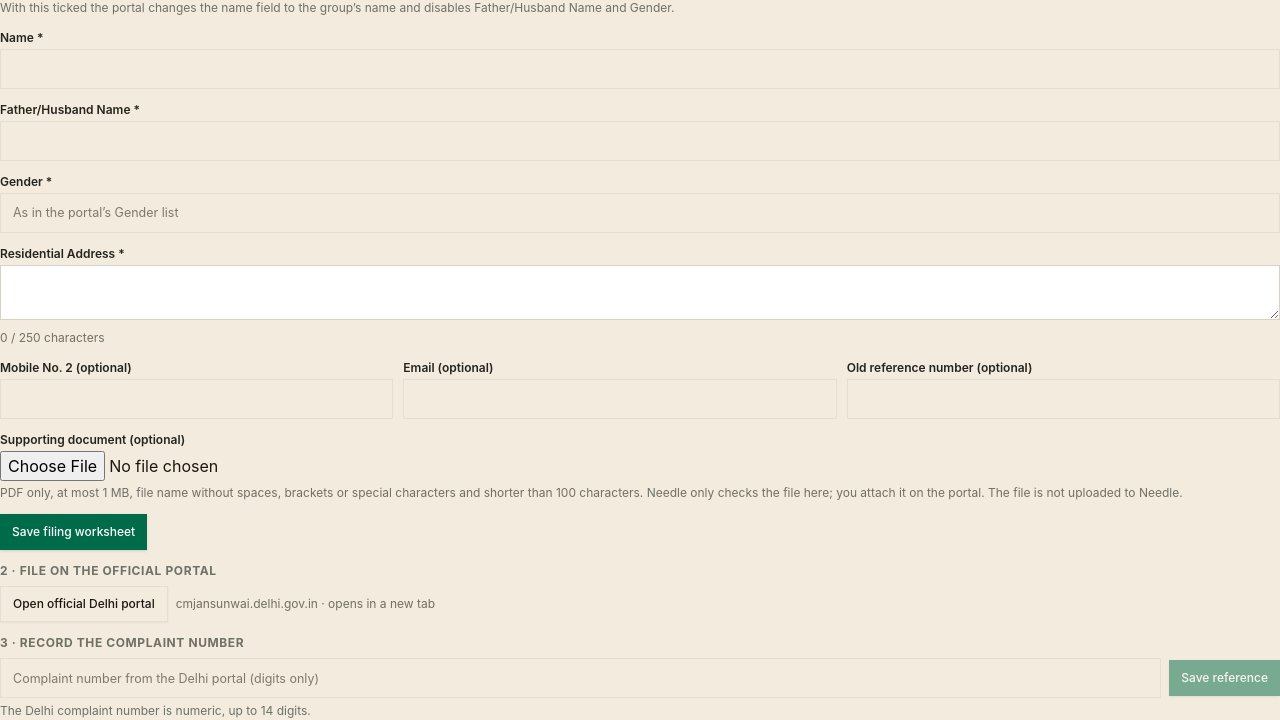
DelhiManualReferencePanel › shows a clear error for HTTP 403 without claiming success
This screenshot has width=1280, height=720.
(page scrolled)
Type "20260000011" into the field named "Delhi portal reference number". click: (581, 678)
box: [0, 658, 1161, 698]
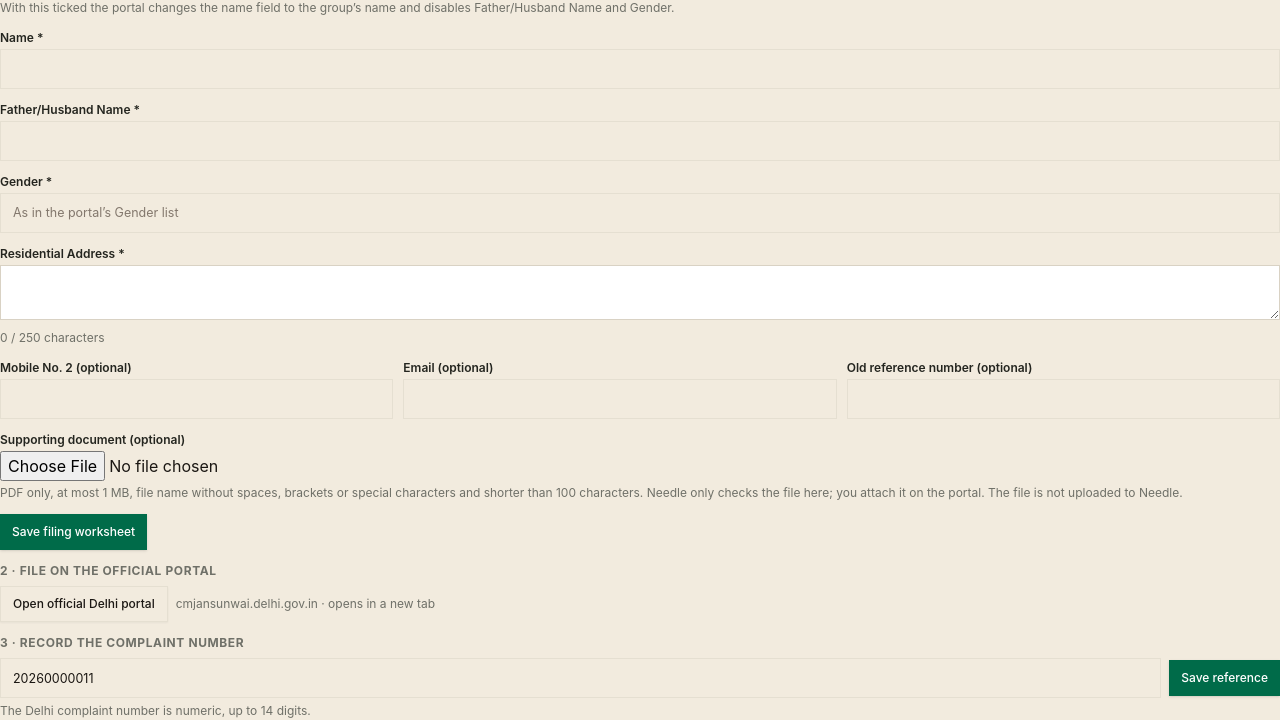
Click the button "Save reference". click: (1225, 678)
box: [1169, 660, 1279, 696]
(page scrolled)
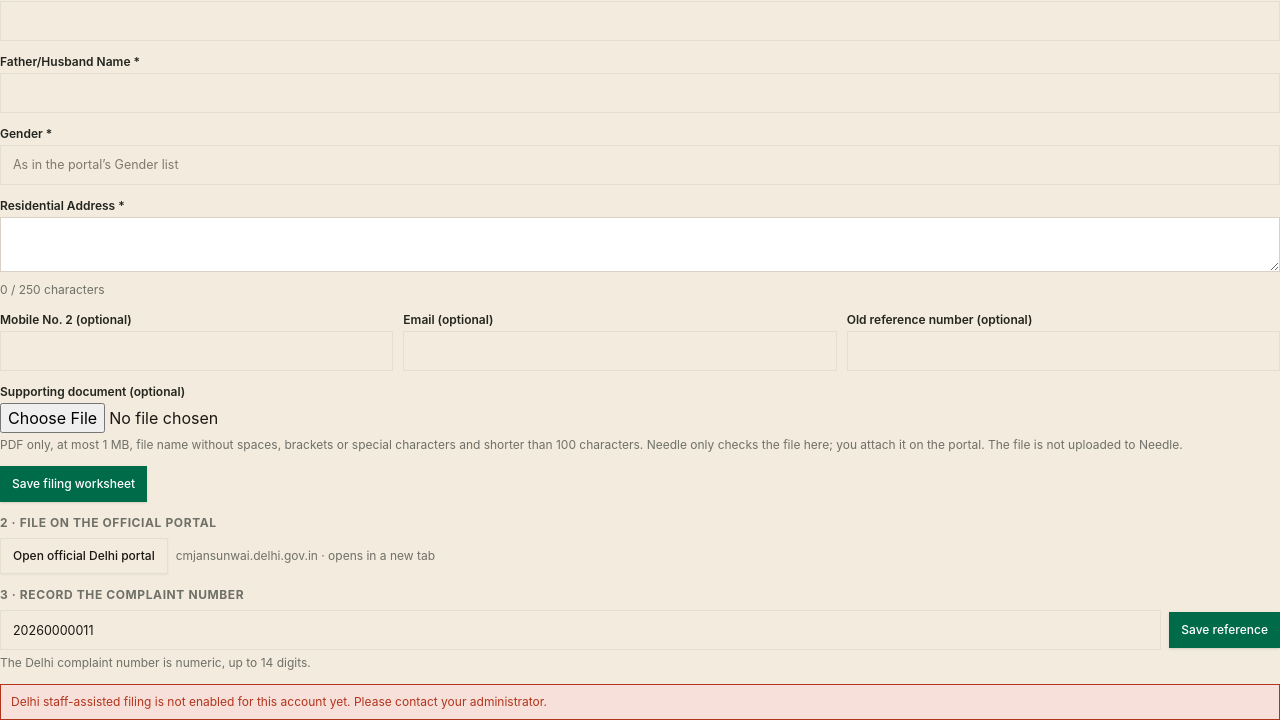
Result: the message shows "not enabled for this account" at [11, 694, 547, 710]
